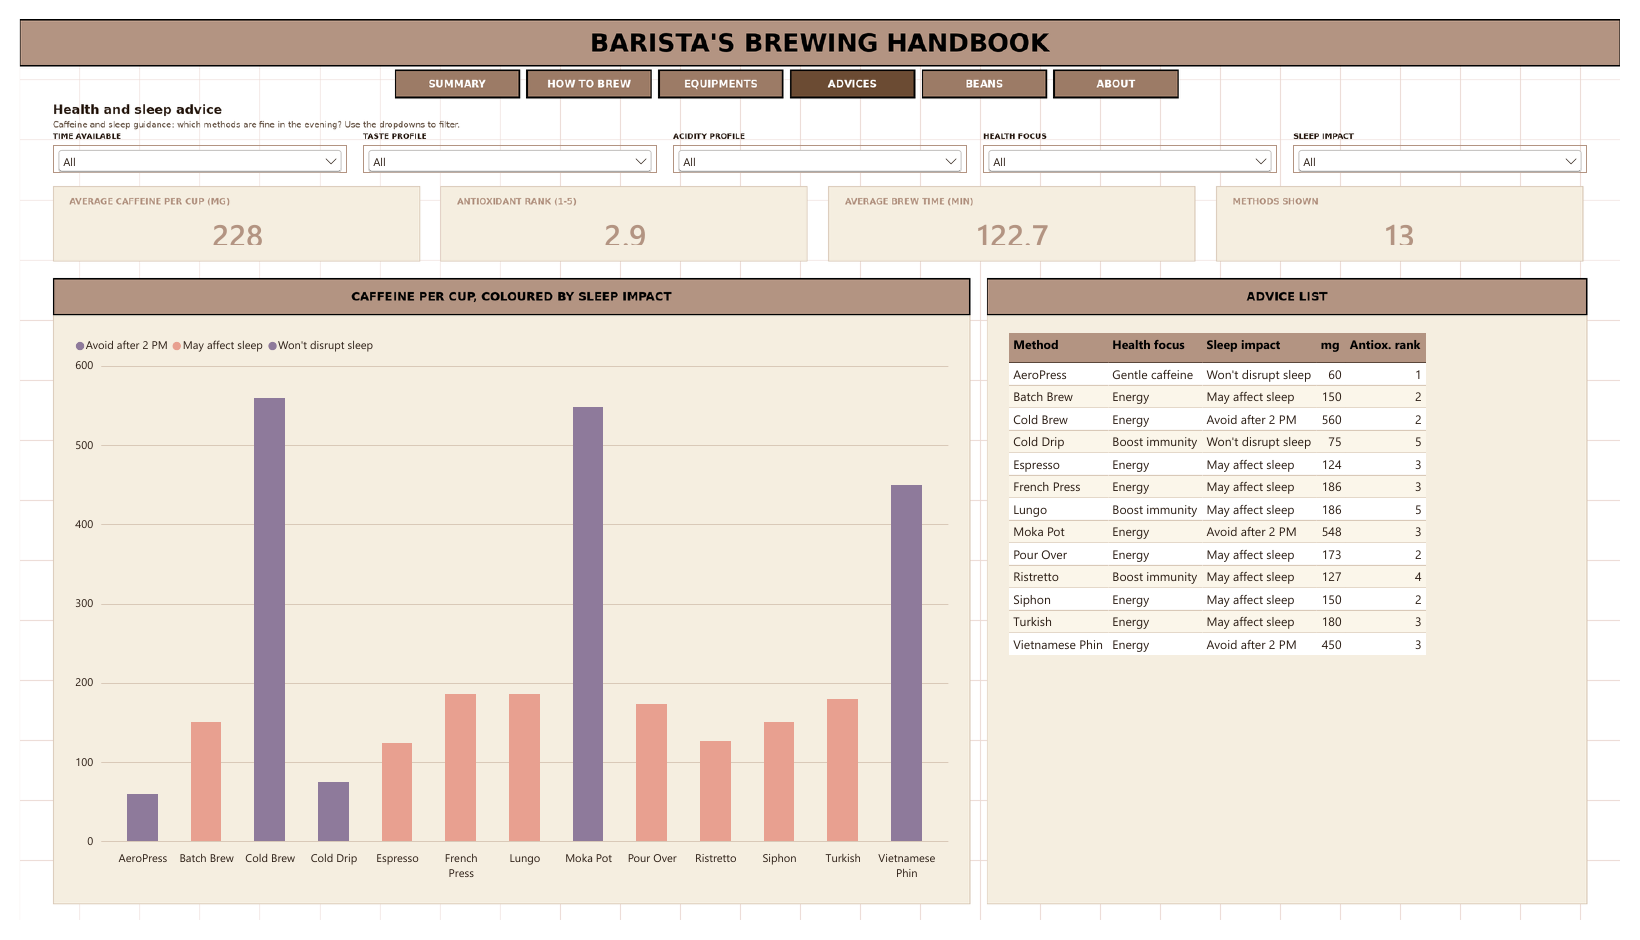

Layout of this report page (visuals, bound fields, positions):
{"tool":"powerbi","page":{"name":"Advices","canvas":[1920,1080],"ordinal":3},"visuals":[{"type":"card","fields":{"Values":["fact_coffee_rating.Avg Caffeine"]},"box":[52,232,420,54],"z":1540},{"type":"card","fields":{"Values":["fact_coffee_rating.Antioxidant Rank Avg"]},"box":[517,232,420,54],"z":1550},{"type":"card","fields":{"Values":["fact_coffee_rating.Avg Brew Time"]},"box":[982,232,420,54],"z":1560},{"type":"card","fields":{"Values":["fact_coffee_rating.Brew Methods"]},"box":[1447,232,420,54],"z":1570},{"type":"columnChart","fields":{"Category":["dim_brew_method.method_name"],"Series":["dim_brew_method.sleep_impact"],"Y":["fact_coffee_rating.Avg Caffeine"]},"box":[50,362,1080,690],"z":1580},{"type":"tableEx","fields":{"Values":["dim_brew_method.method_name","dim_brew_method.Health Focus","dim_brew_method.sleep_impact","dim_brew_method.caffeine_mg","dim_brew_method.antioxidant_rank"]},"box":[1170,362,700,690],"z":1590},{"type":"slicer","fields":{"Values":["dim_brew_method.Time Bucket"]},"box":[40,150,352,34],"z":7048},{"type":"slicer","fields":{"Values":["dim_brew_method.Lead Taste"]},"box":[412,150,352,34],"z":7049},{"type":"slicer","fields":{"Values":["dim_brew_method.Acidity Profile"]},"box":[784,150,352,34],"z":7050},{"type":"slicer","fields":{"Values":["dim_brew_method.Health Focus"]},"box":[1156,150,352,34],"z":7051},{"type":"slicer","fields":{"Values":["dim_brew_method.sleep_impact"]},"box":[1528,150,352,34],"z":7052},{"type":"actionButton","box":[450,60,150,34],"z":9059},{"type":"actionButton","box":[608,60,150,34],"z":9060},{"type":"actionButton","box":[766,60,150,34],"z":9061},{"type":"actionButton","box":[924,60,150,34],"z":9062},{"type":"actionButton","box":[1082,60,150,34],"z":9063},{"type":"actionButton","box":[1240,60,150,34],"z":9064}]}

Visuals, with their boxes in screenshot pixels (x1, y1, x2, y2), scaled from the page's 1920x1080 canvas onto the 1640x940 screenshot:
card - fact_coffee_rating.Avg Caffeine: detection(44, 202, 403, 249)
card - fact_coffee_rating.Antioxidant Rank Avg: detection(442, 202, 800, 249)
card - fact_coffee_rating.Avg Brew Time: detection(839, 202, 1198, 249)
card - fact_coffee_rating.Brew Methods: detection(1236, 202, 1595, 249)
columnChart - dim_brew_method.method_name x dim_brew_method.sleep_impact: detection(43, 315, 965, 916)
tableEx - dim_brew_method.method_name x dim_brew_method.Health Focus: detection(999, 315, 1597, 916)
slicer - dim_brew_method.Time Bucket: detection(34, 131, 335, 160)
slicer - dim_brew_method.Lead Taste: detection(352, 131, 653, 160)
slicer - dim_brew_method.Acidity Profile: detection(670, 131, 970, 160)
slicer - dim_brew_method.Health Focus: detection(987, 131, 1288, 160)
slicer - dim_brew_method.sleep_impact: detection(1305, 131, 1606, 160)
actionButton: detection(384, 52, 512, 82)
actionButton: detection(519, 52, 647, 82)
actionButton: detection(654, 52, 782, 82)
actionButton: detection(789, 52, 917, 82)
actionButton: detection(924, 52, 1052, 82)
actionButton: detection(1059, 52, 1187, 82)
